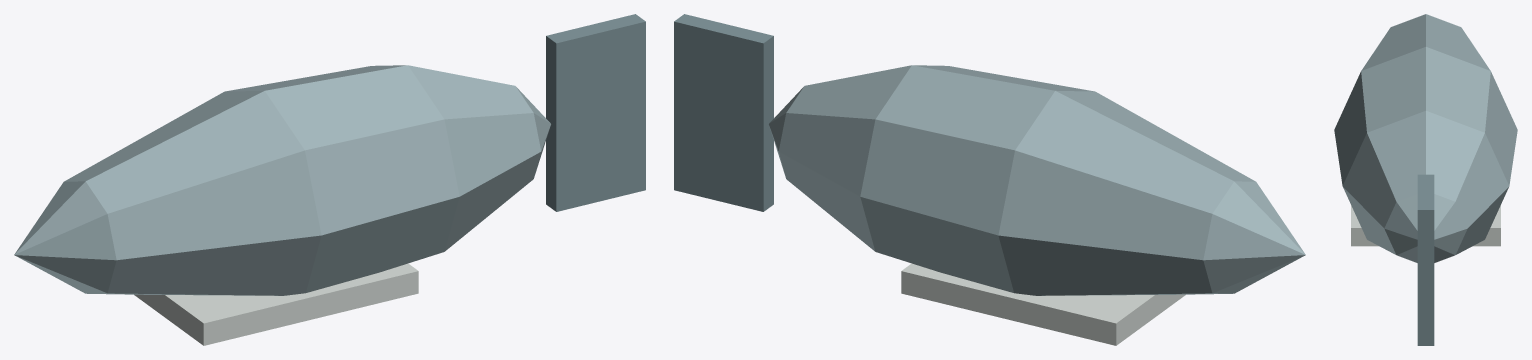
Rendered from raw-fish.glb.
3 views of the same model, side by side, from view 1: azimuth 30°, elevation 25°; view 2: azimuth 150°, elevation 25°; view 3: azimuth 270°, elevation 25° (orthographic). The views are drawn at different scales.
Parts seen in each view (by area): view 1: raw-fish; view 2: raw-fish; view 3: raw-fish.
Part boxes in pixels (left/top/right/bottom): raw-fish: left=14, top=14, right=645, bottom=345; raw-fish: left=674, top=14, right=1305, bottom=345; raw-fish: left=1334, top=14, right=1517, bottom=345.
Size of the model in its own units: 0.35 by 0.11 by 0.11.
